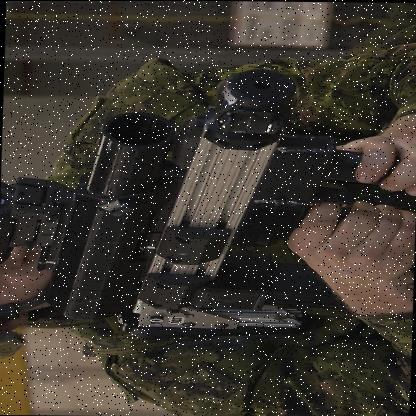rifle: (47, 66, 338, 344)
